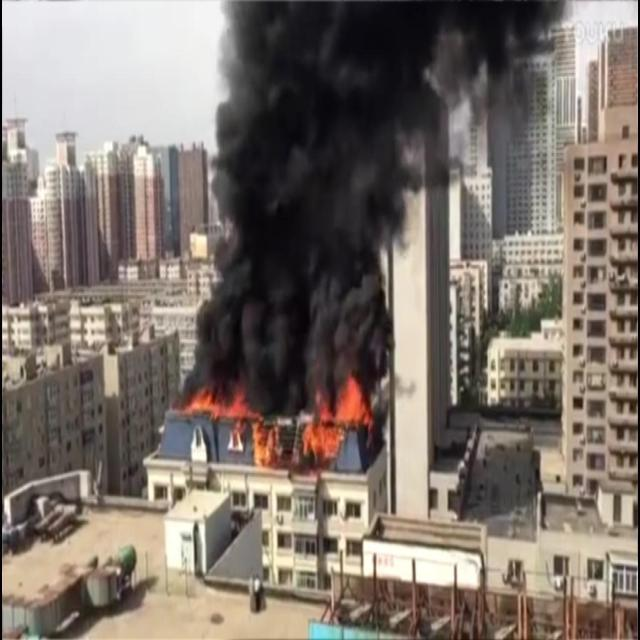Fire: (184, 390, 280, 468), (302, 372, 374, 462)
Smoke: (184, 1, 576, 378)
